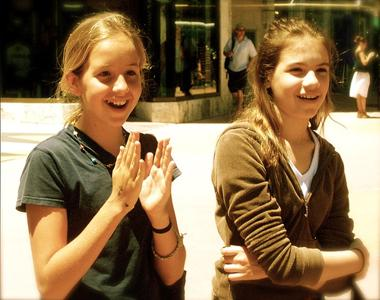person: (15, 11, 188, 300)
